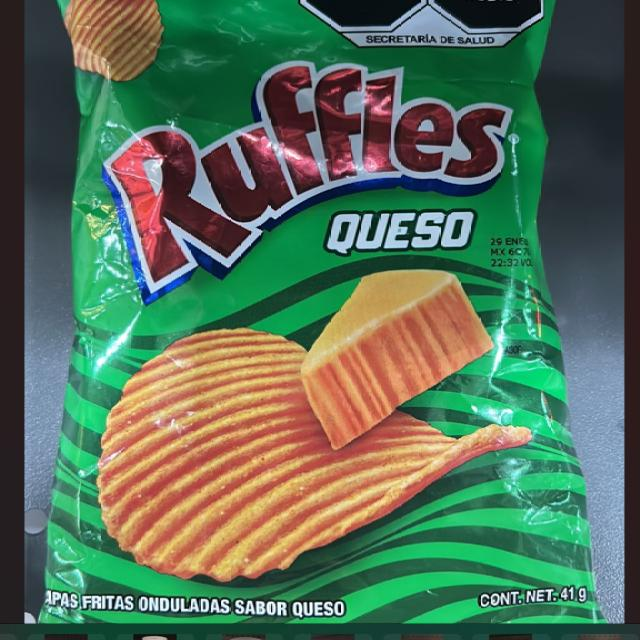rufflesQueso: (68, 0, 562, 611)
